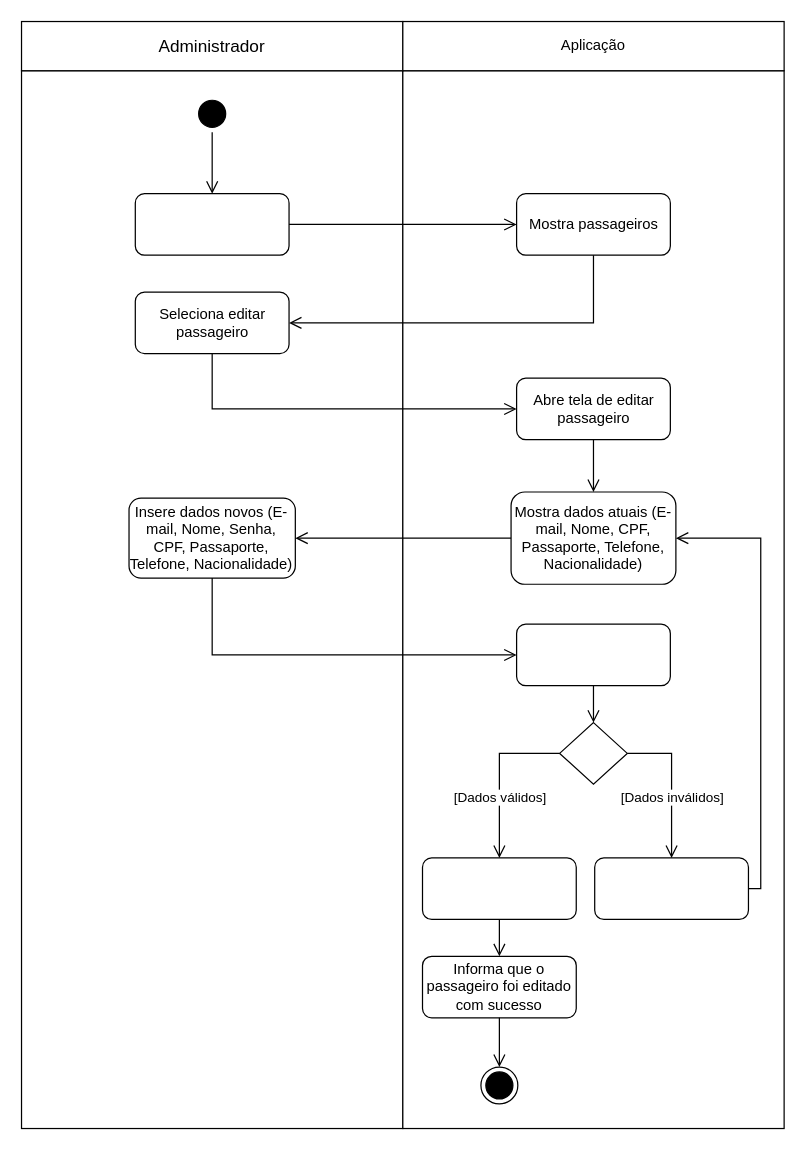
This 806x1150 diagram has some shape labels left out. The shapes that lost their labels are listed below. From the top down, each one's centre as x and y in pixels, then its label:
(211,223): Entra na tela de ver passageiros
(592,654): Valida dados
(498,888): Edita passageiro
(670,888): Informa que os dados são inválidos
